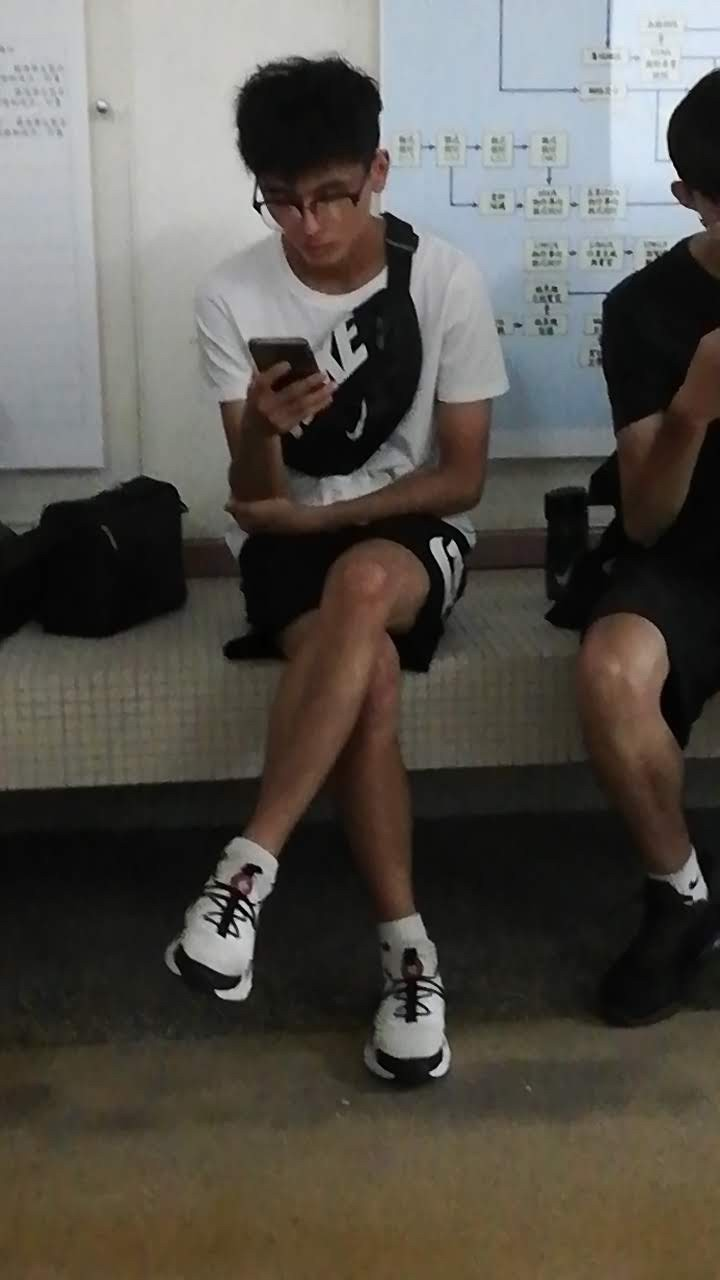people: (163, 55, 491, 1072), (575, 65, 720, 986)
